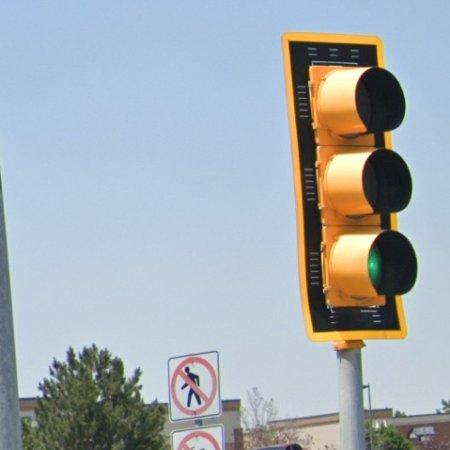traffic lights: (282, 30, 418, 340)
